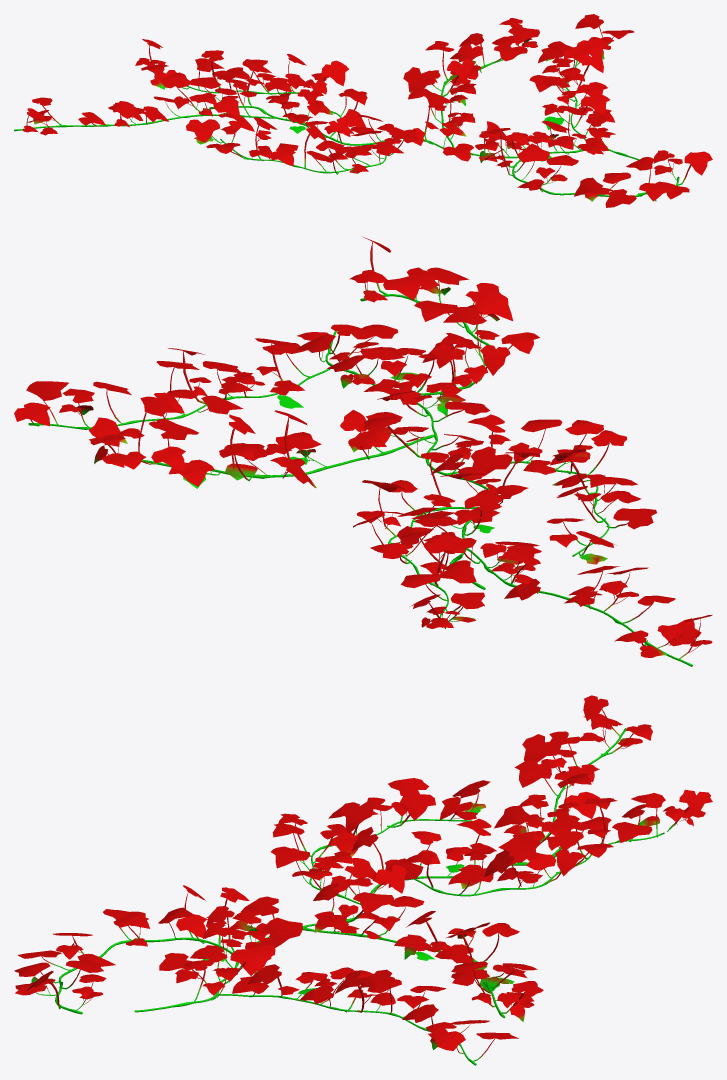
File: Var1_LOD1.fbx
The picture shows the model from 3 angles, top to bottom: view 1: azimuth 30°, elevation 25°; view 2: azimuth 150°, elevation 25°; view 3: azimuth 270°, elevation 25°; orthographic projection. The views are drawn at different scales.
Parts seen in each view (by area): view 1: _epun_Var1_LOD1; view 2: _epun_Var1_LOD1; view 3: _epun_Var1_LOD1.
Boxes of the visible parts, <box> form: _epun_Var1_LOD1: <box>14,14,712,207</box>; _epun_Var1_LOD1: <box>14,236,712,666</box>; _epun_Var1_LOD1: <box>14,695,712,1065</box>.
Bounding box in the file's own units: 175 × 13.38 × 150.
